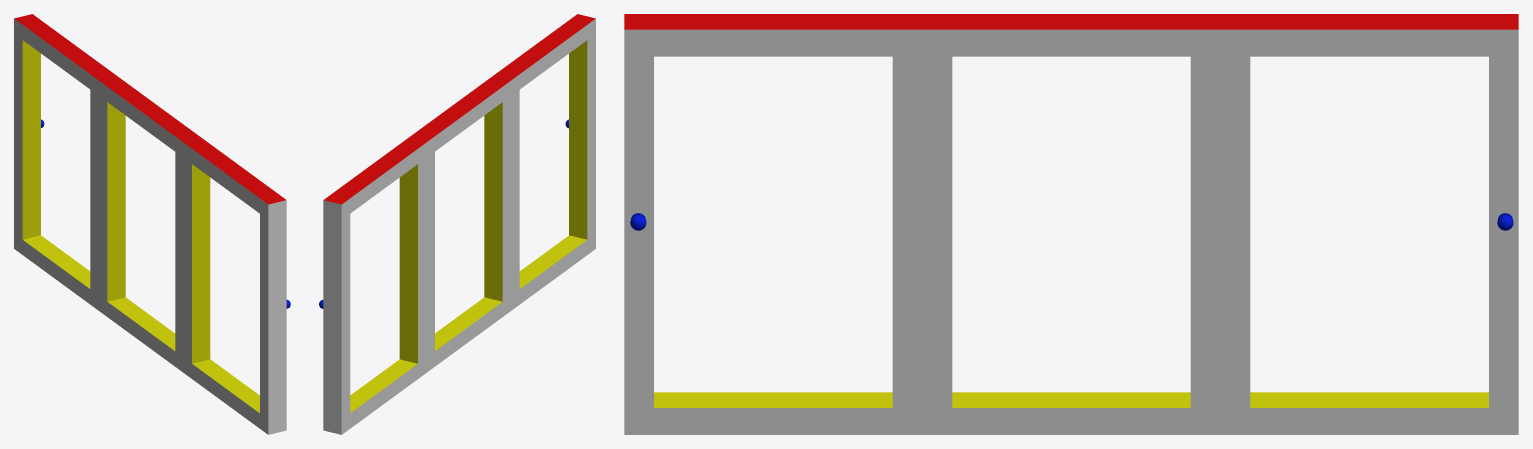
Rendered from Correderas2.fbx.
The picture shows the model from 3 angles, left to right: view 1: azimuth 30°, elevation 25°; view 2: azimuth 150°, elevation 25°; view 3: azimuth 270°, elevation 25°; orthographic projection. The views are drawn at different scales.
Parts seen in each view (by area): view 1: Box892; view 2: Box892; view 3: Box892.
Part boxes in pixels (left/top/right/bottom): Box892: left=14, top=14, right=290, bottom=434; Box892: left=319, top=14, right=595, bottom=434; Box892: left=624, top=14, right=1518, bottom=434.
Size of the model in its own units: 13.82 by 118 by 236.
